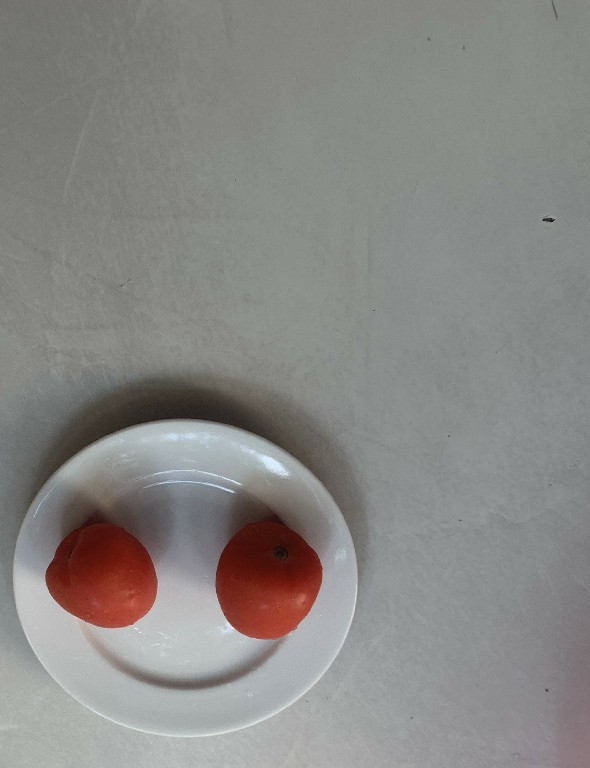OK: (209, 514, 324, 647), (35, 516, 164, 633)
